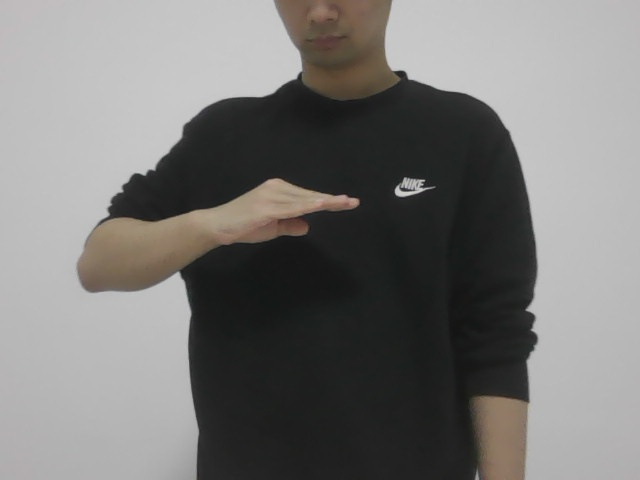late/night: (210, 166, 359, 252)
